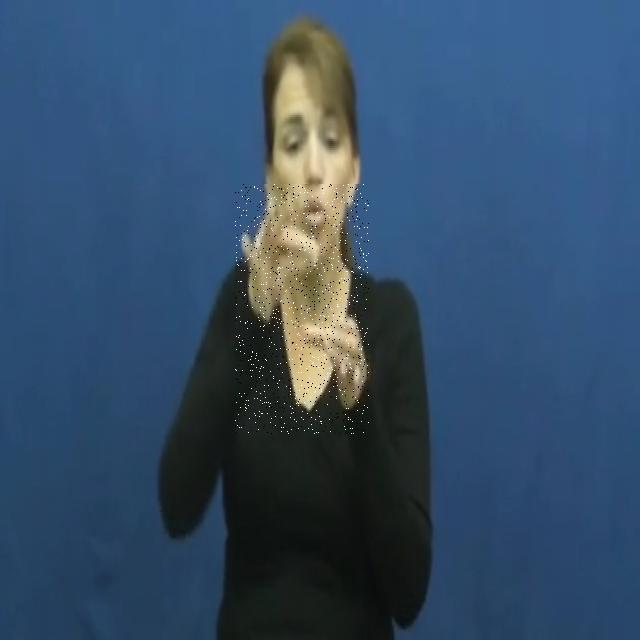straw: (236, 184, 370, 434)
